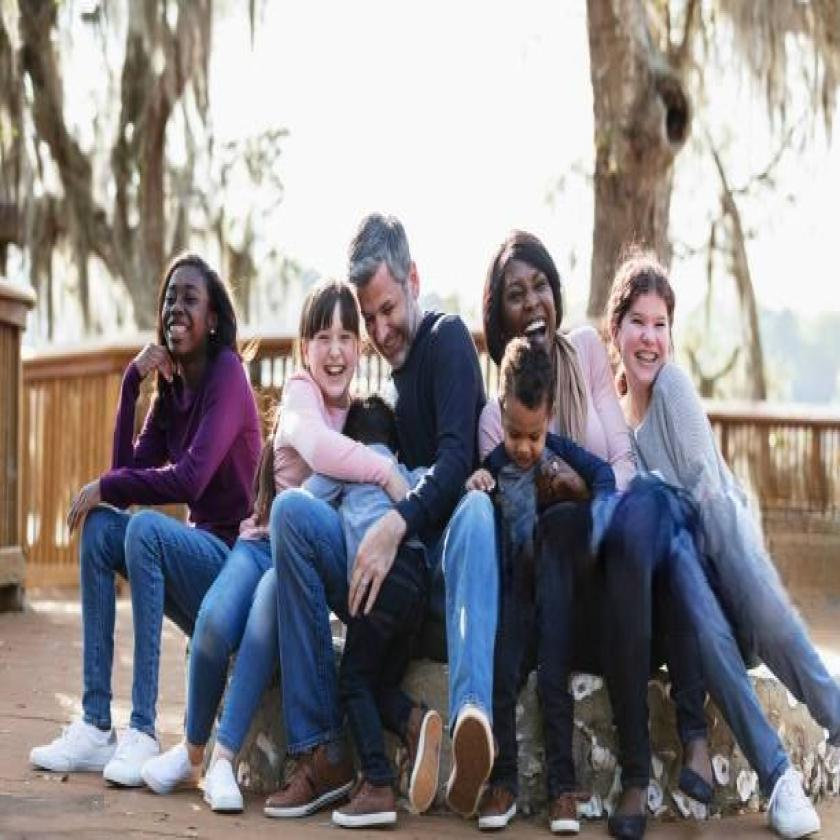Sin_casco: (350, 201, 423, 376), (608, 258, 678, 397), (156, 241, 223, 379), (489, 228, 561, 347), (498, 337, 558, 468), (302, 274, 364, 400)
